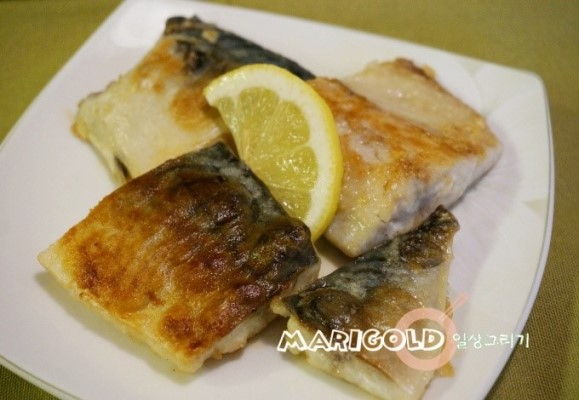godeung-eogu-i: (37, 137, 326, 378)
